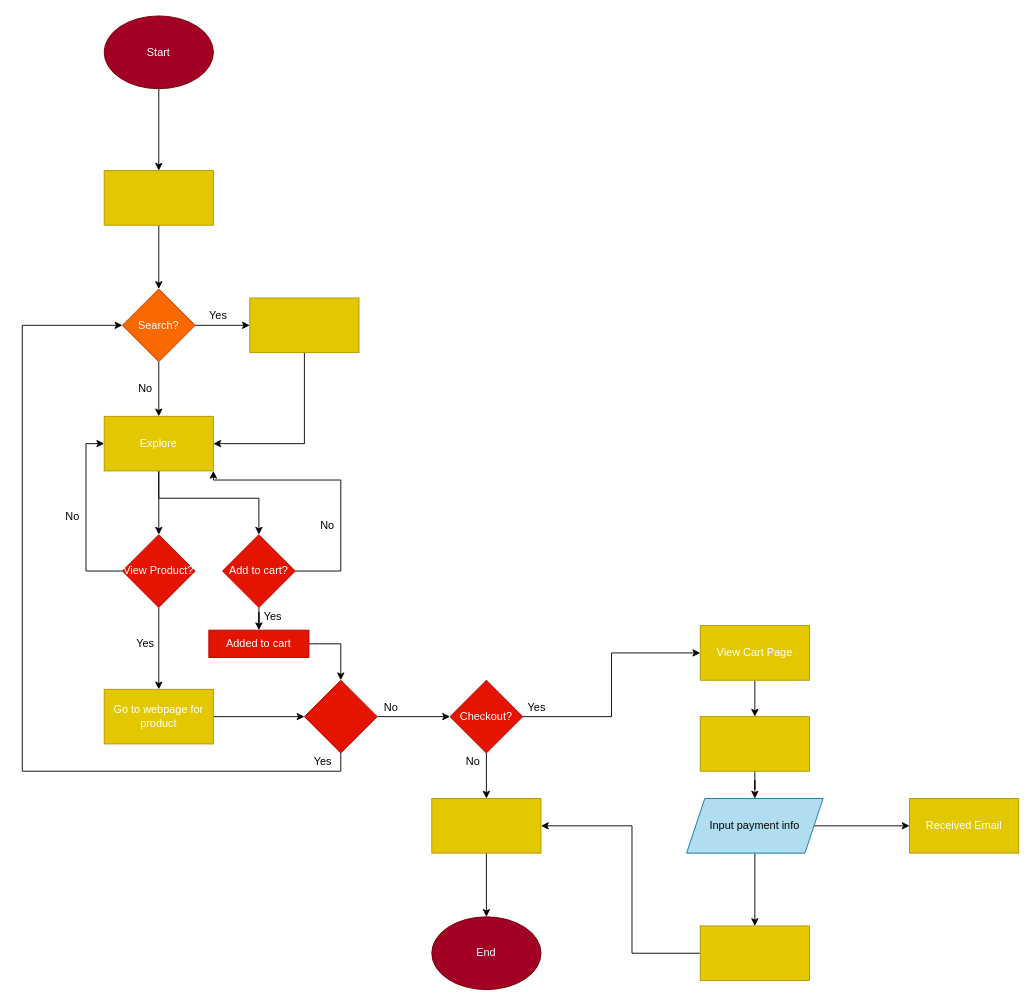
The diagram is 1035 pixels wide and 1006 high, and some of its shapes have lost their labels. Here are the shapes that lost their labels. From the top down, the box of each, then its label:
(103, 170, 213, 225): Enter Website
(249, 297, 359, 353): input search
(303, 679, 377, 753): Continue Shopping?
(699, 716, 809, 771): View Payment Page
(431, 798, 541, 853): Leave Website
(699, 925, 809, 981): Order Confirmation Page
